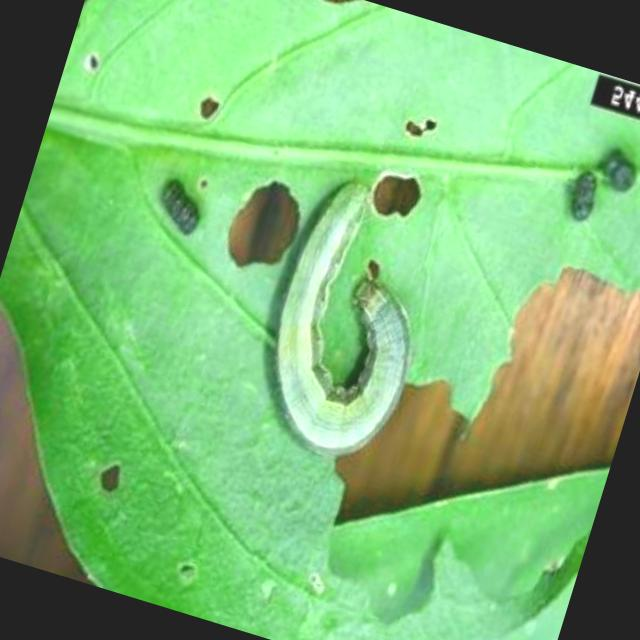Beet armyworm: (182, 124, 480, 516)
